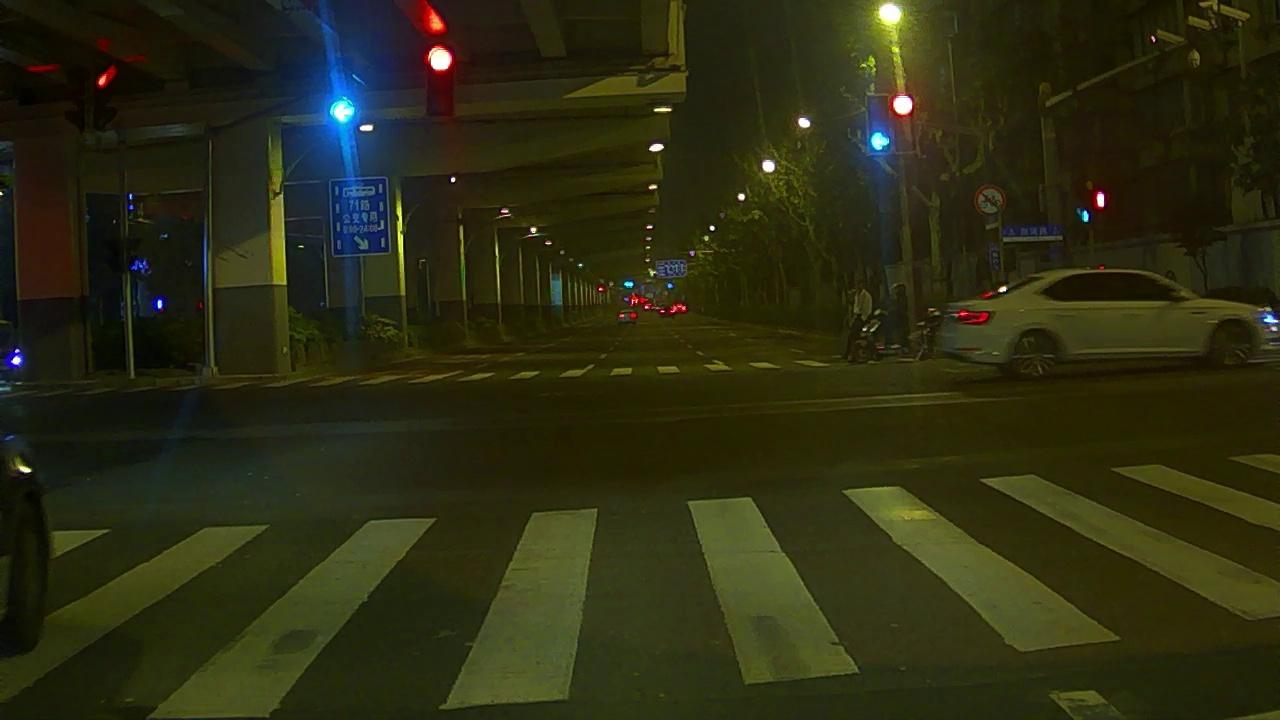traffic_light: (430, 47, 450, 113), (891, 95, 914, 151), (869, 93, 889, 152), (329, 98, 355, 120)
